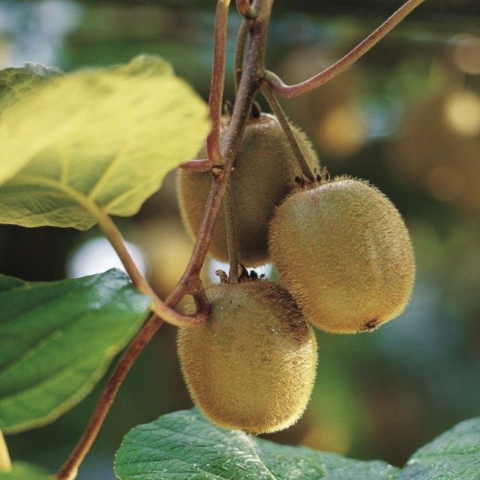kiwi: (165, 263, 341, 437), (178, 106, 333, 279), (264, 172, 427, 335)
